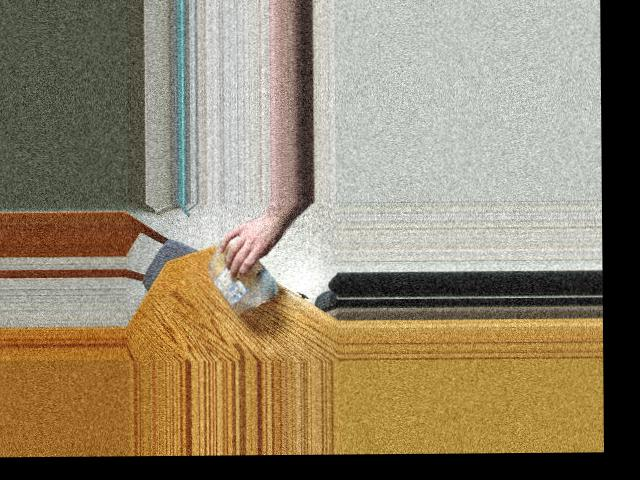cheese: (203, 231, 269, 316)
